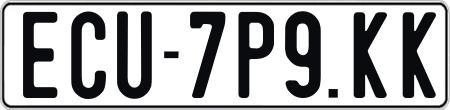7: (187, 12, 223, 102)
9: (284, 9, 323, 96)
C: (68, 12, 107, 101)
E: (21, 9, 58, 95)
K: (354, 10, 387, 101), (403, 10, 436, 101)
P: (238, 9, 276, 97)
U: (116, 10, 157, 103)
